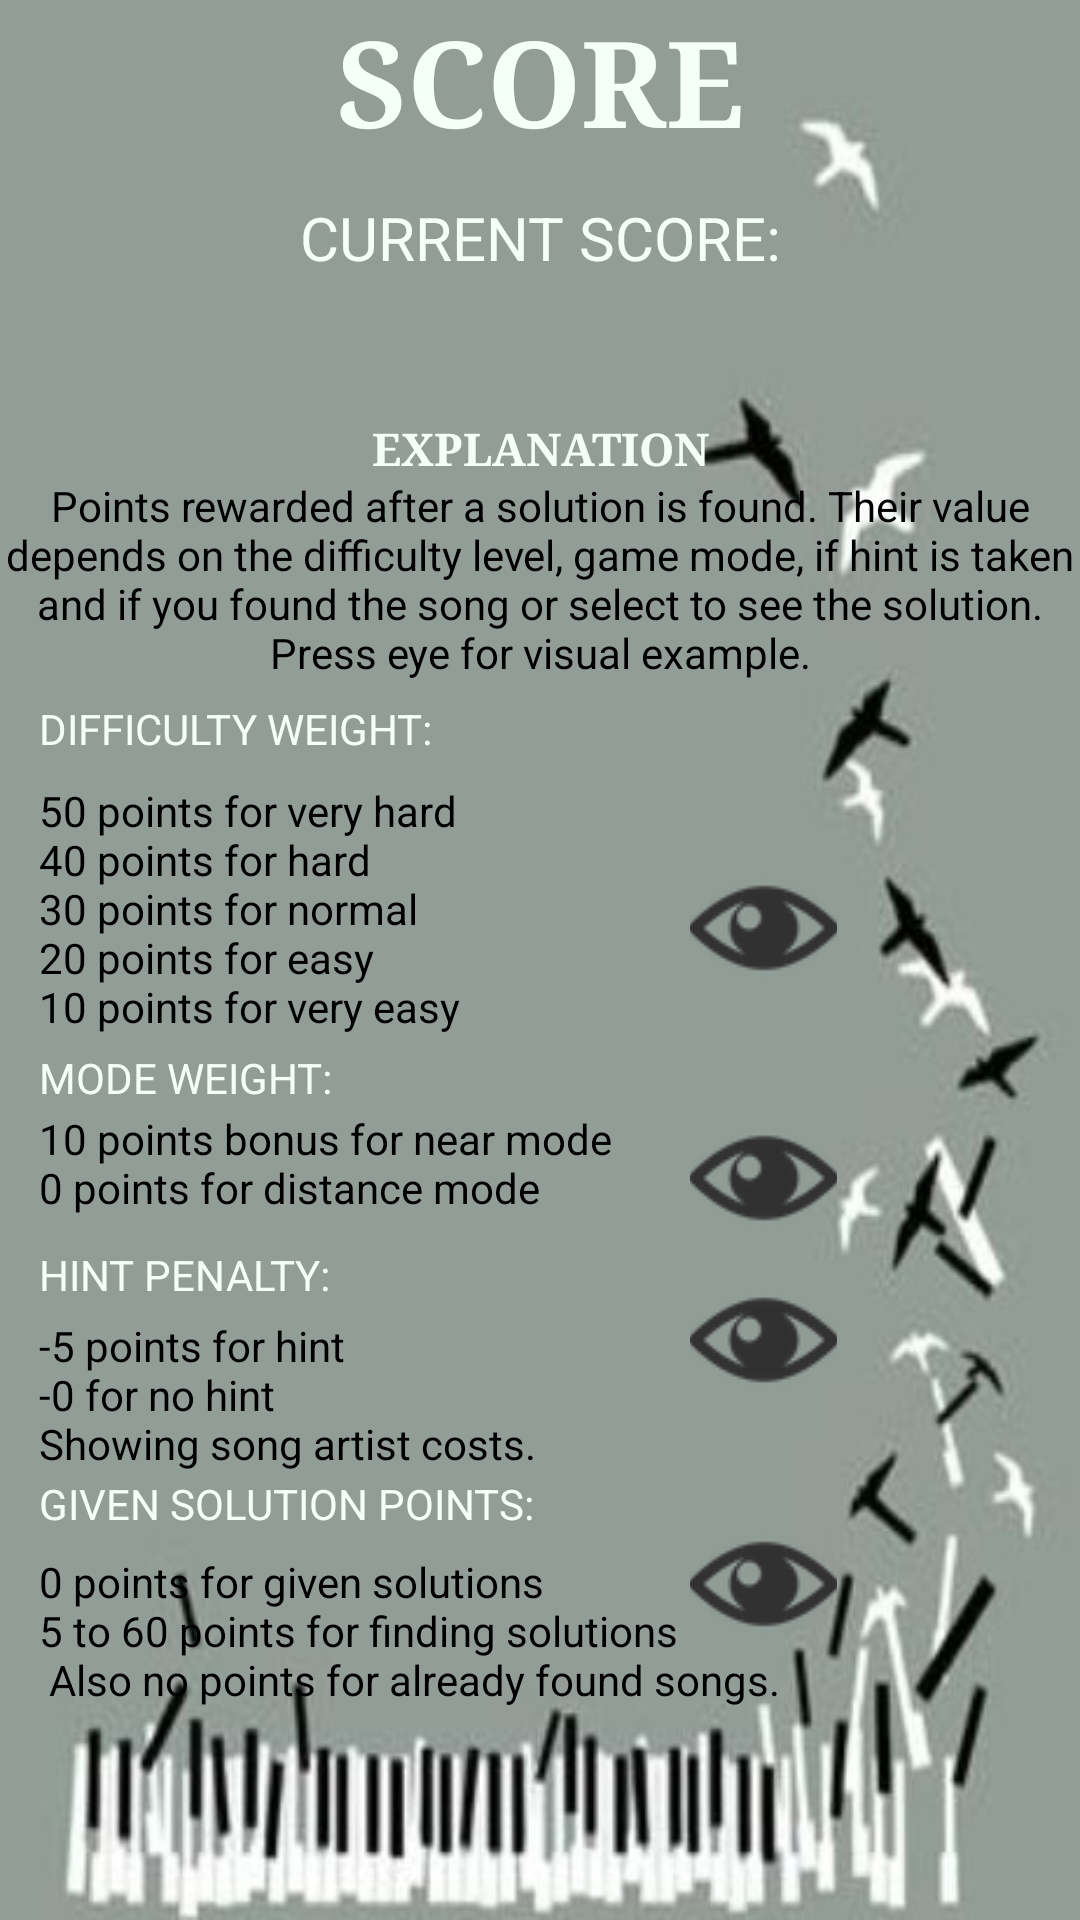

Point at icon controls on the screen. Image size 1080px x 1920px, points as point (x, y).
eye: point (763, 928), point (763, 1178), point (763, 1340), point (763, 1584)
